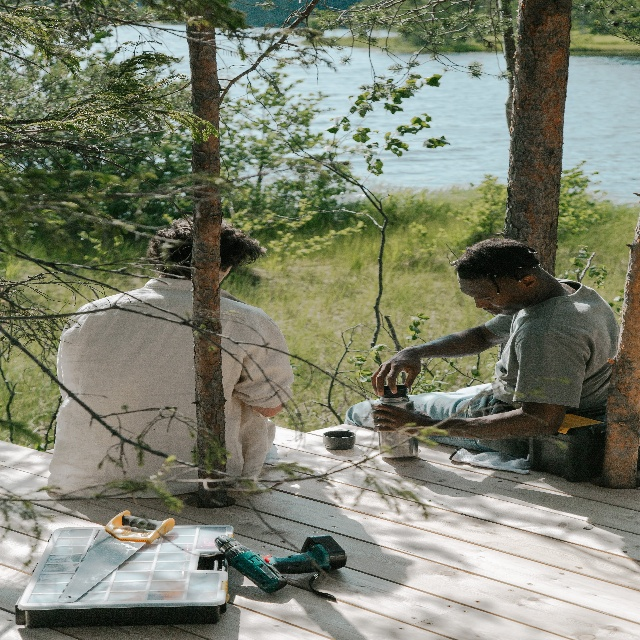Sin_guantes: (371, 344, 421, 395), (370, 400, 424, 437)
